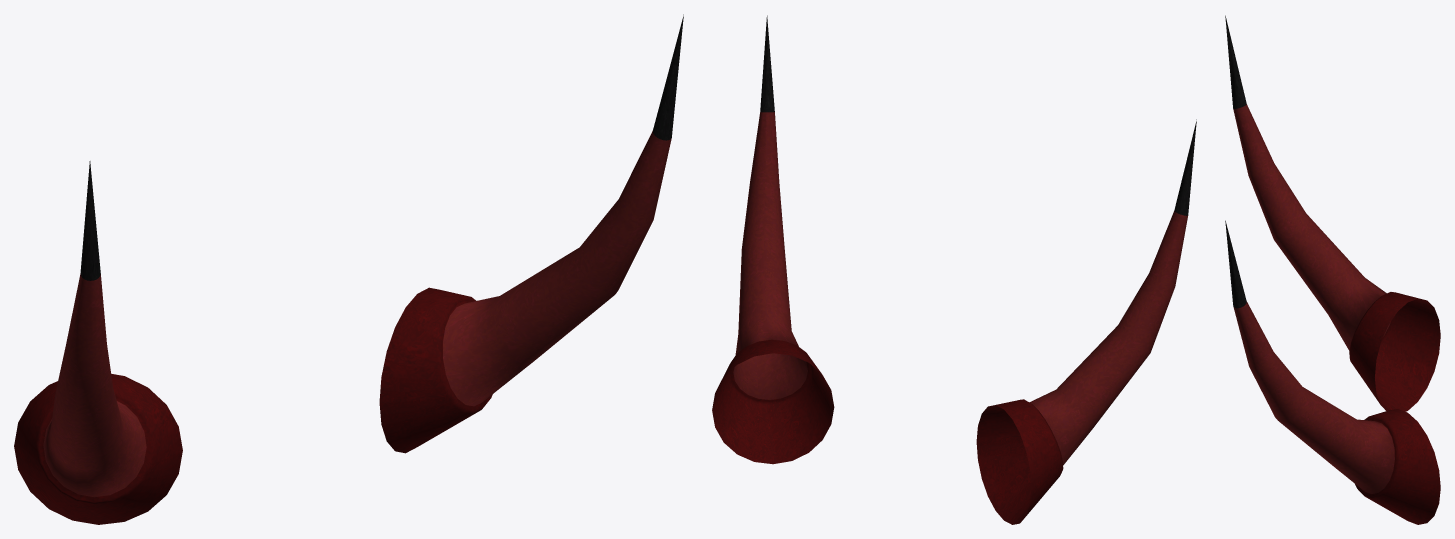
The model's file is hat8.glb.
The picture shows the model from 3 angles, left to right: view 1: azimuth 30°, elevation 25°; view 2: azimuth 150°, elevation 25°; view 3: azimuth 270°, elevation 25°; orthographic projection. The views are drawn at different scales.
Visible parts, largest first — view 1: polySurface1; view 2: polySurface1; view 3: polySurface1.
Boxes of the visible parts, left/top/right/bottom form: polySurface1: left=14, top=14, right=683, bottom=524; polySurface1: left=712, top=15, right=1196, bottom=524; polySurface1: left=1225, top=15, right=1440, bottom=524.
Bounding box in the file's own units: 7.49 × 5.95 × 3.33.
Materials: 1 (1 with a texture image).
